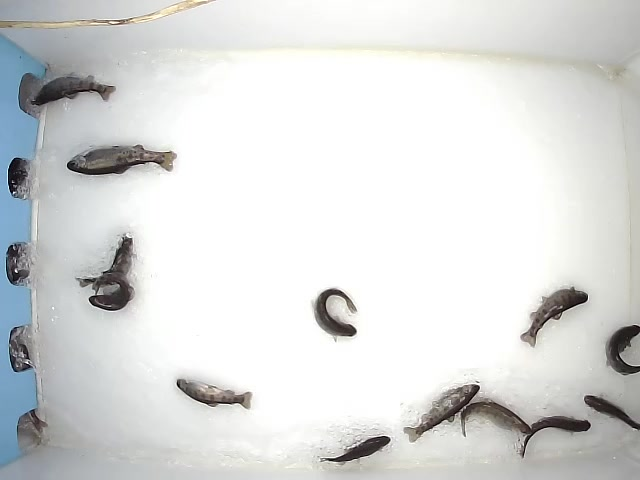fish: (401, 380, 481, 444), (518, 284, 590, 348), (64, 142, 178, 177), (73, 231, 135, 288), (517, 414, 591, 460), (28, 71, 116, 105), (308, 287, 360, 343), (174, 376, 254, 412), (458, 399, 532, 437), (583, 392, 640, 435), (318, 432, 391, 465), (603, 323, 640, 376), (86, 272, 135, 311)
